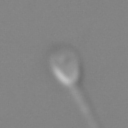normal: (60, 86, 106, 128)
